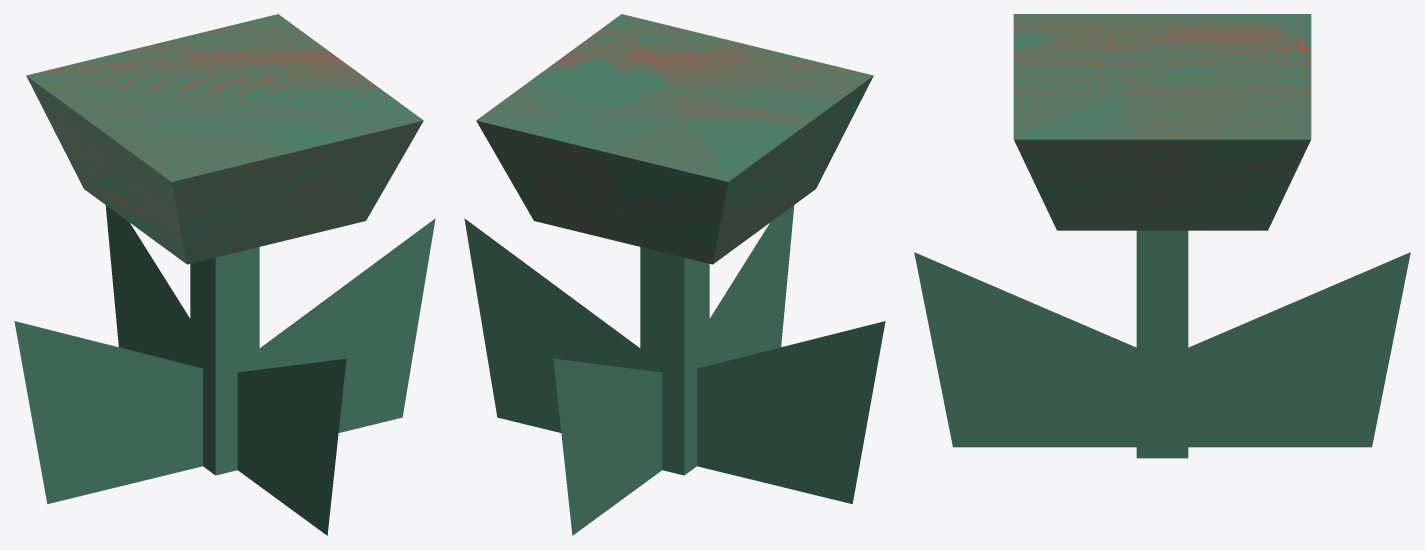
The model's file is naturePack_flat_010.fbx.
The picture shows the model from 3 angles, left to right: view 1: azimuth 30°, elevation 25°; view 2: azimuth 150°, elevation 25°; view 3: azimuth 270°, elevation 25°; orthographic projection. The views are drawn at different scales.
Visible parts, largest first — view 1: Mesh3_Flower_Red Model, Mesh4_Flower_Red Model, Mesh1_Flower_Red Model, Mesh2_Flower_Red Model, Mesh5_Flower_Red Model; view 2: Mesh3_Flower_Red Model, Mesh4_Flower_Red Model, Mesh1_Flower_Red Model, Mesh5_Flower_Red Model, Mesh2_Flower_Red Model; view 3: Mesh3_Flower_Red Model, Mesh2_Flower_Red Model, Mesh5_Flower_Red Model.
Part boxes in pixels (box(x1,y1,x2,y2)): Mesh3_Flower_Red Model: box(26, 14, 423, 475); Mesh4_Flower_Red Model: box(14, 321, 202, 503); Mesh1_Flower_Red Model: box(259, 218, 435, 432); Mesh2_Flower_Red Model: box(237, 358, 346, 535); Mesh5_Flower_Red Model: box(105, 205, 190, 364); Mesh3_Flower_Red Model: box(476, 14, 873, 475); Mesh4_Flower_Red Model: box(697, 321, 885, 503); Mesh1_Flower_Red Model: box(464, 218, 640, 432); Mesh5_Flower_Red Model: box(553, 358, 662, 535); Mesh2_Flower_Red Model: box(709, 205, 794, 364); Mesh3_Flower_Red Model: box(1013, 14, 1311, 458); Mesh2_Flower_Red Model: box(914, 252, 1136, 447); Mesh5_Flower_Red Model: box(1188, 252, 1410, 447).
Size of the model in its own units: 0.4859 by 0.4 by 0.4859.
